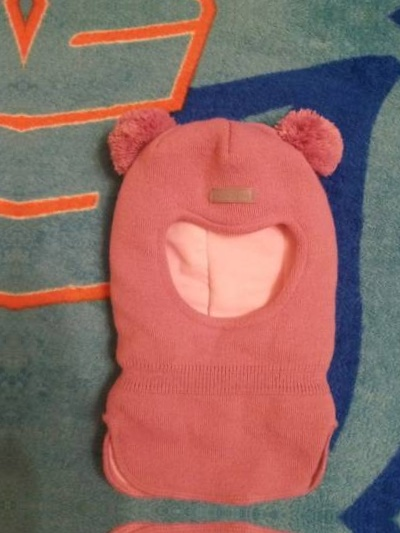Hat: (70, 89, 386, 509), (54, 517, 371, 533)
